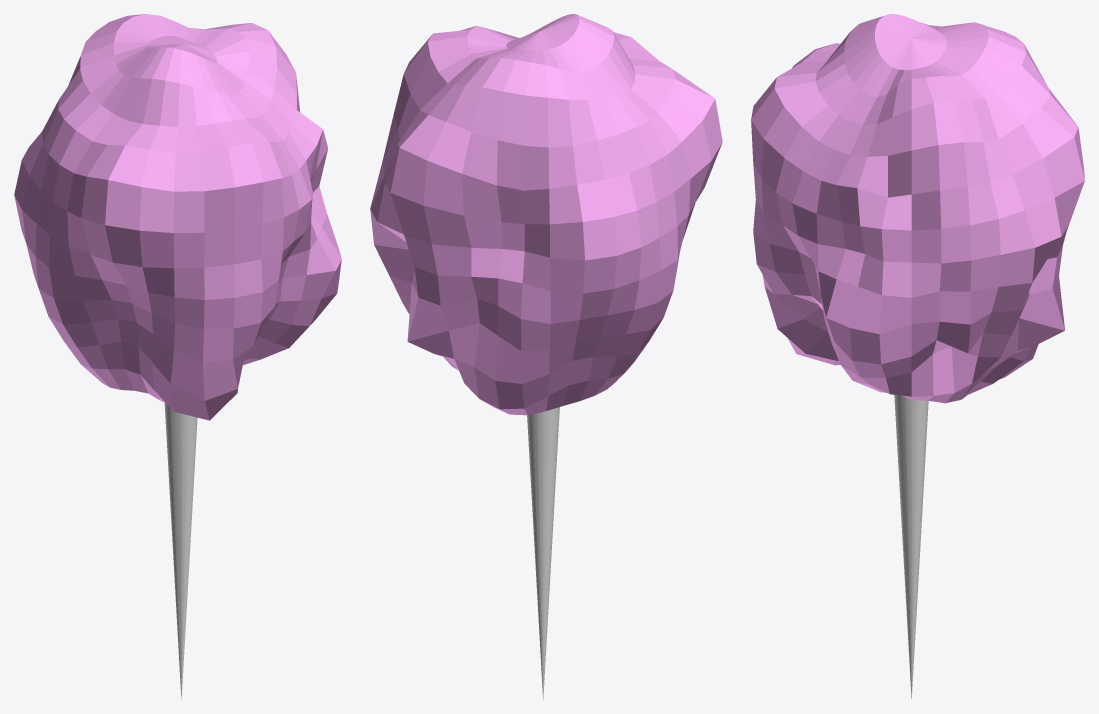
Rendered from 506e28de-5d1f-4f5a-bc8e-6212a4769abe.glb.
3 views of the same model, side by side, from view 1: azimuth 30°, elevation 25°; view 2: azimuth 150°, elevation 25°; view 3: azimuth 270°, elevation 25° (orthographic).
Visible parts, largest first — view 1: Sphere001, Cylinder001; view 2: Sphere001, Cylinder001; view 3: Sphere001, Cylinder001.
Part boxes in pixels (x1=…): Sphere001: x1=14, y1=14, x2=341, y2=420; Cylinder001: x1=164, y1=403, x2=197, y2=699; Sphere001: x1=370, y1=14, x2=722, y2=415; Cylinder001: x1=527, y1=407, x2=559, y2=699; Sphere001: x1=751, y1=14, x2=1084, y2=403; Cylinder001: x1=894, y1=395, x2=928, y2=698.
Bounding box in the file's own units: 653855 × 1521875 × 683223.
